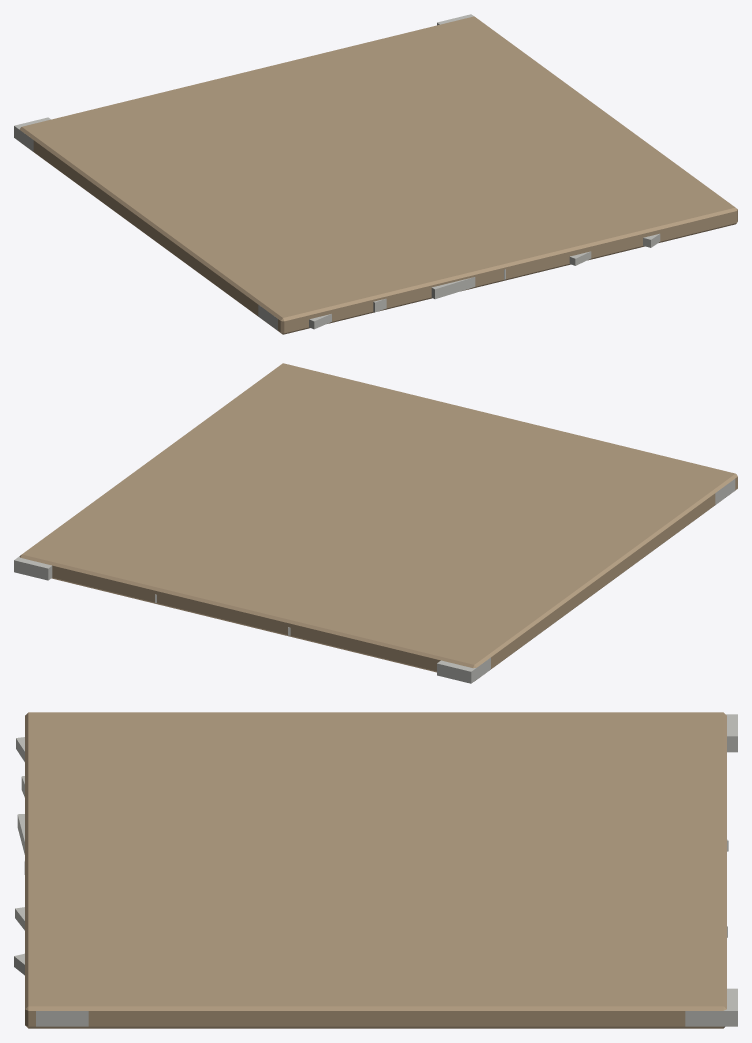
The model's file is town_cobble_road_junction.glb.
3 renders of one model, top to bottom at view 1: azimuth 30°, elevation 25°; view 2: azimuth 150°, elevation 25°; view 3: azimuth 270°, elevation 25°, orthographic. The views are drawn at different scales.
Visible parts, largest first — view 1: world; view 2: world; view 3: world.
Part boxes in pixels (x1,y1,x2,y2): world: (14, 14, 737, 334); world: (14, 363, 737, 683); world: (14, 712, 737, 1028).
Size of the model in its own units: 1.94 by 0.0679 by 2.
